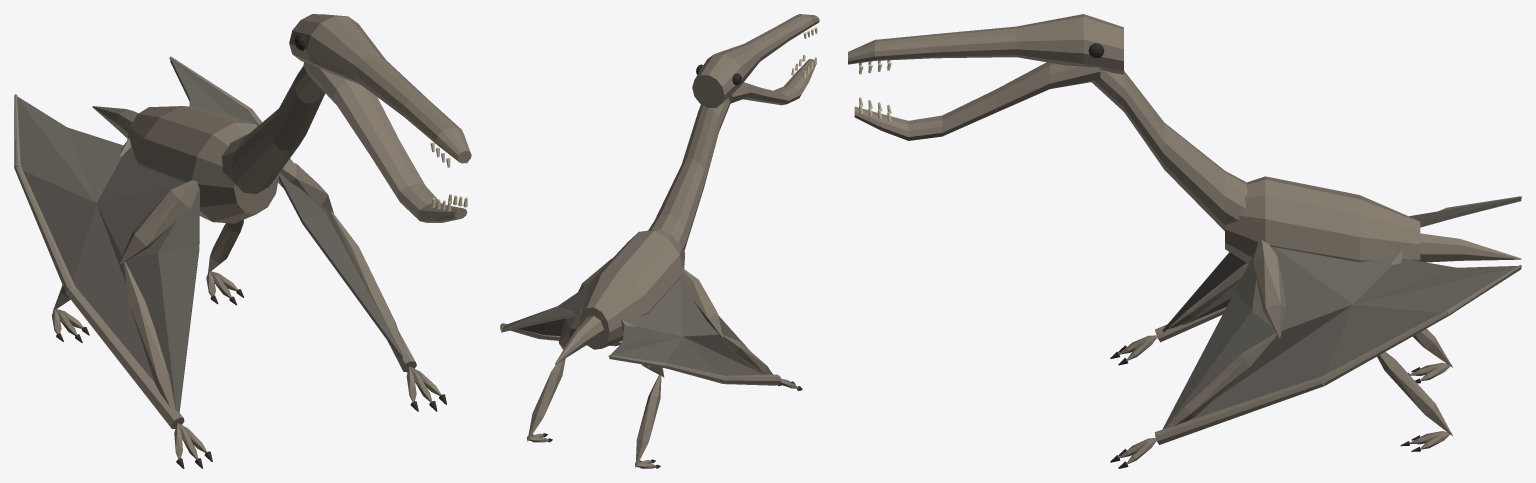
3 views of the same model, side by side, from view 1: azimuth 30°, elevation 25°; view 2: azimuth 150°, elevation 25°; view 3: azimuth 270°, elevation 25° (orthographic). The views are drawn at different scales.
Parts seen in each view (by area): view 1: surface_grey_brown_body, surface_dark_muted_membrane, surface_eyes_claws, surface_pale_teeth; view 2: surface_grey_brown_body, surface_dark_muted_membrane; view 3: surface_grey_brown_body, surface_dark_muted_membrane.
Boxes of the visible parts, <box> form: surface_grey_brown_body: <box>14,14,471,459</box>; surface_dark_muted_membrane: <box>17,59,408,412</box>; surface_eyes_claws: <box>56,33,446,468</box>; surface_pale_teeth: <box>430,142,468,211</box>; surface_grey_brown_body: <box>500,14,819,468</box>; surface_dark_muted_membrane: <box>501,277,763,375</box>; surface_grey_brown_body: <box>848,14,1521,464</box>; surface_dark_muted_membrane: <box>1157,198,1521,429</box>.
Bounding box in the file's own units: 0.4259 × 0.6478 × 1.
